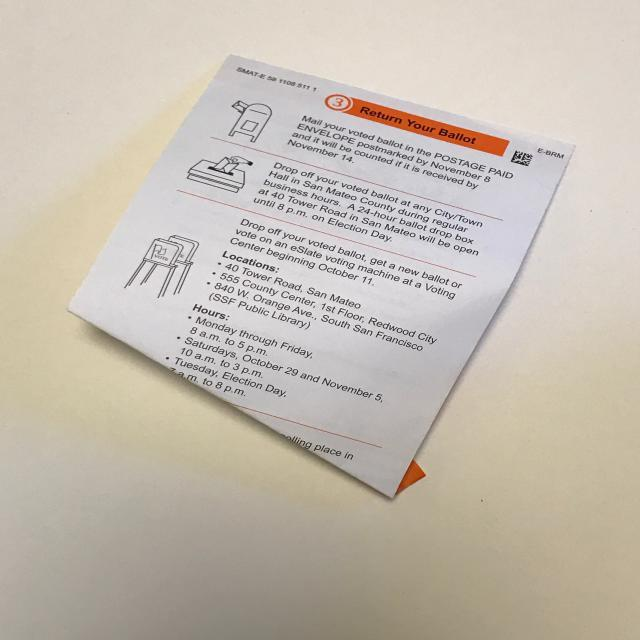paper: (63, 52, 580, 504)
